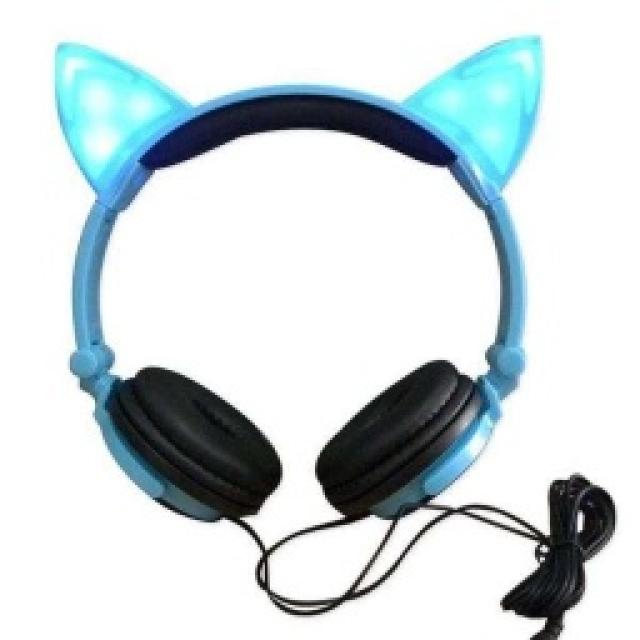headphones: (53, 30, 545, 528)
